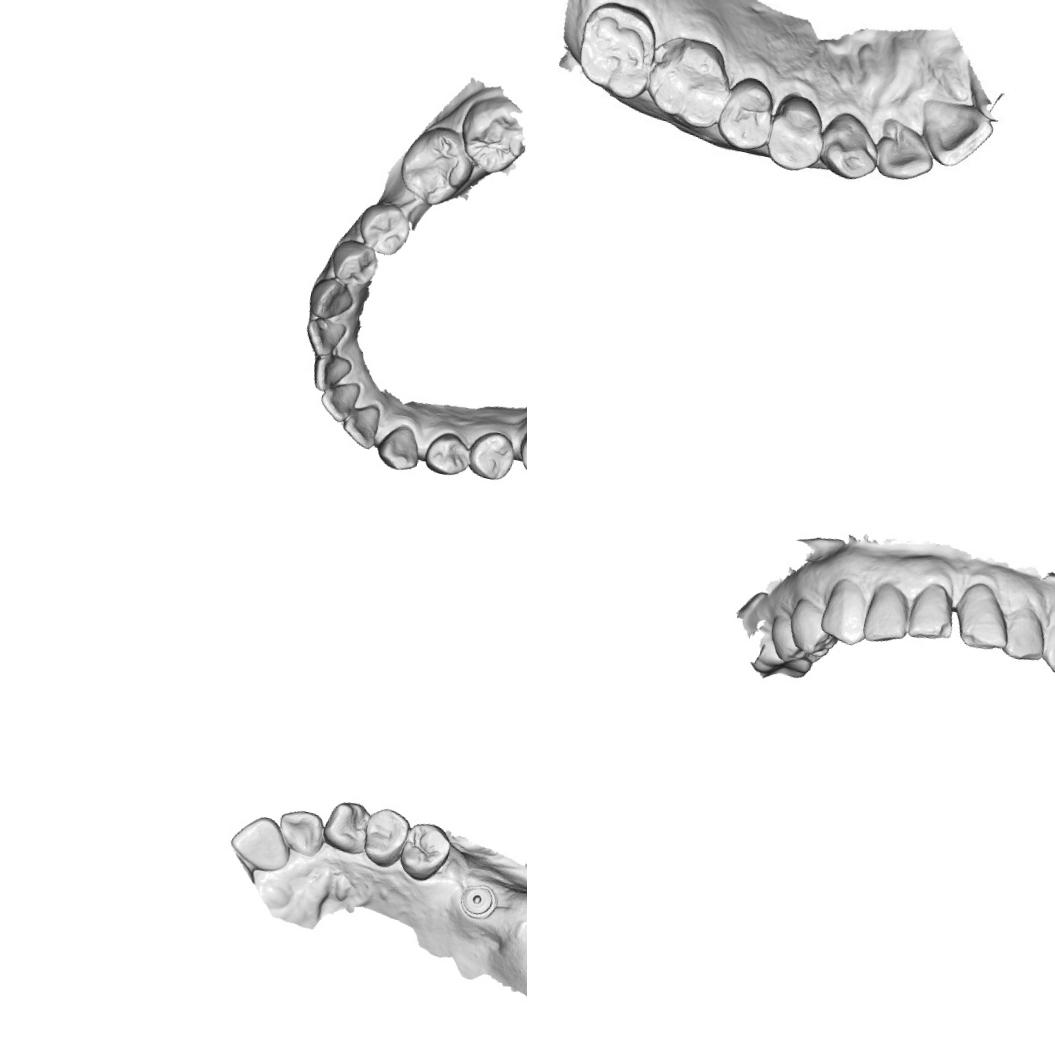canine: (814, 107, 888, 186), (817, 574, 879, 651), (318, 794, 374, 858), (372, 418, 426, 476), (304, 273, 358, 324), (1036, 612, 1055, 678)
implant: (454, 879, 500, 925)
incisor: (910, 94, 1000, 176), (946, 576, 1020, 656), (870, 113, 942, 188), (224, 809, 297, 878), (858, 580, 916, 650), (904, 576, 962, 646), (998, 598, 1054, 667), (272, 803, 330, 860), (337, 396, 386, 452), (300, 313, 350, 362), (315, 375, 363, 426), (308, 350, 354, 397)
molar: (640, 30, 740, 134), (567, 0, 665, 105), (393, 118, 483, 213), (451, 88, 527, 182)
premolar: (762, 90, 832, 178), (712, 70, 781, 158), (394, 816, 456, 888), (352, 197, 415, 260), (781, 597, 842, 659), (358, 804, 412, 872), (464, 425, 520, 485), (323, 234, 382, 290), (420, 426, 476, 482), (768, 612, 803, 660)
